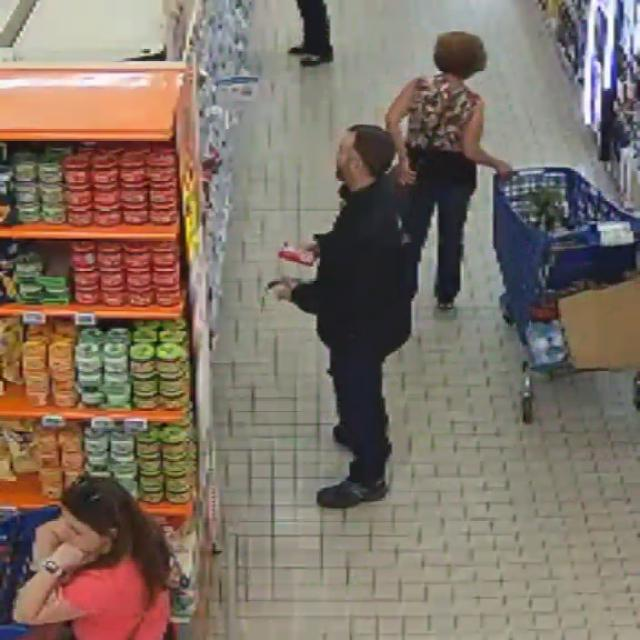article: (277, 241, 319, 265), (264, 275, 302, 294)
hands: (35, 518, 67, 560), (50, 543, 91, 571), (272, 278, 296, 301), (397, 158, 416, 185), (496, 162, 514, 180), (301, 241, 319, 258)
person: (275, 125, 411, 508), (386, 32, 512, 309), (14, 477, 170, 639)
